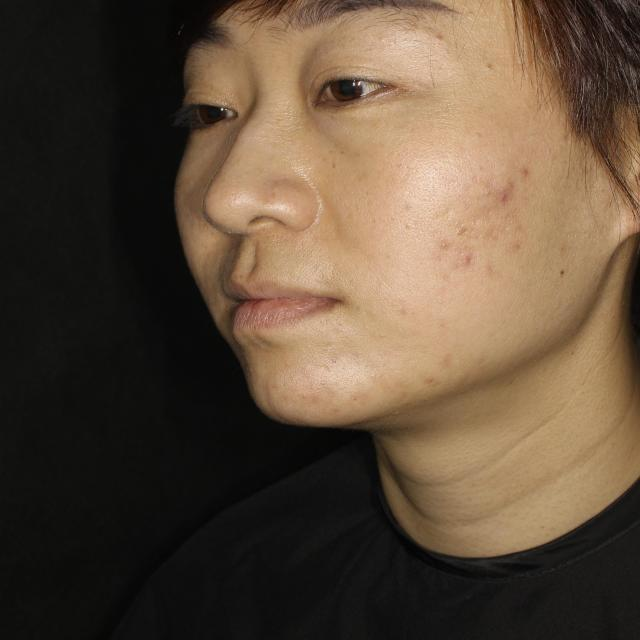acne: (495, 181, 519, 203), (517, 164, 543, 181), (457, 244, 475, 268)
